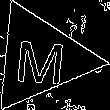M_N: (12, 30, 68, 85)
